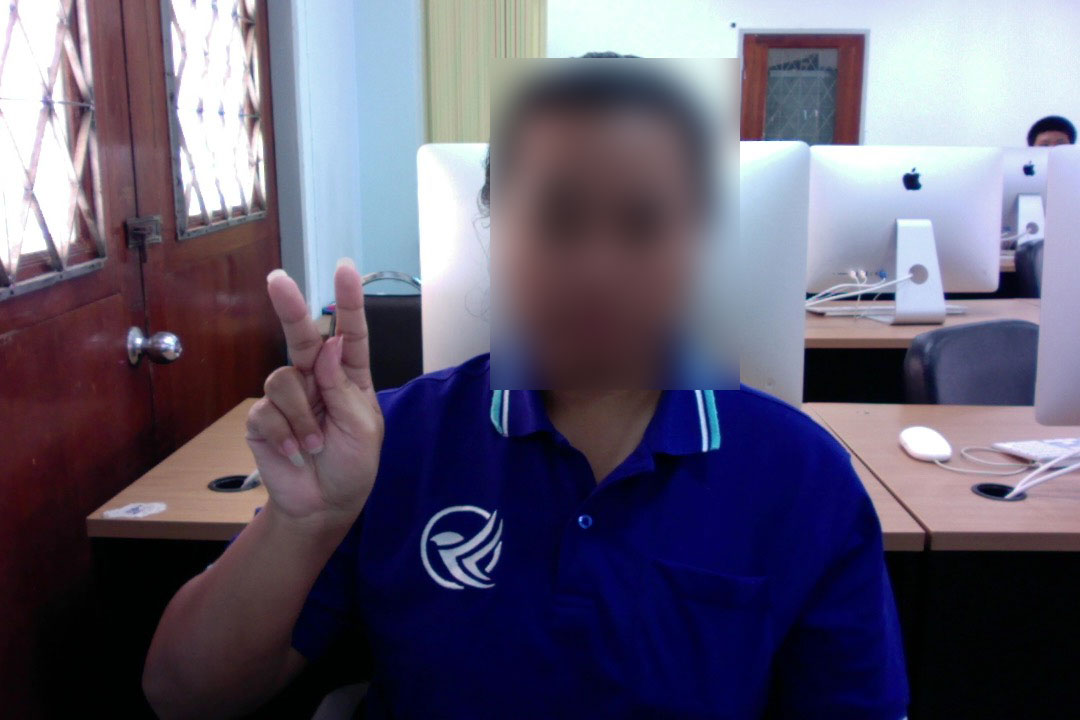ko: (231, 248, 386, 522)
